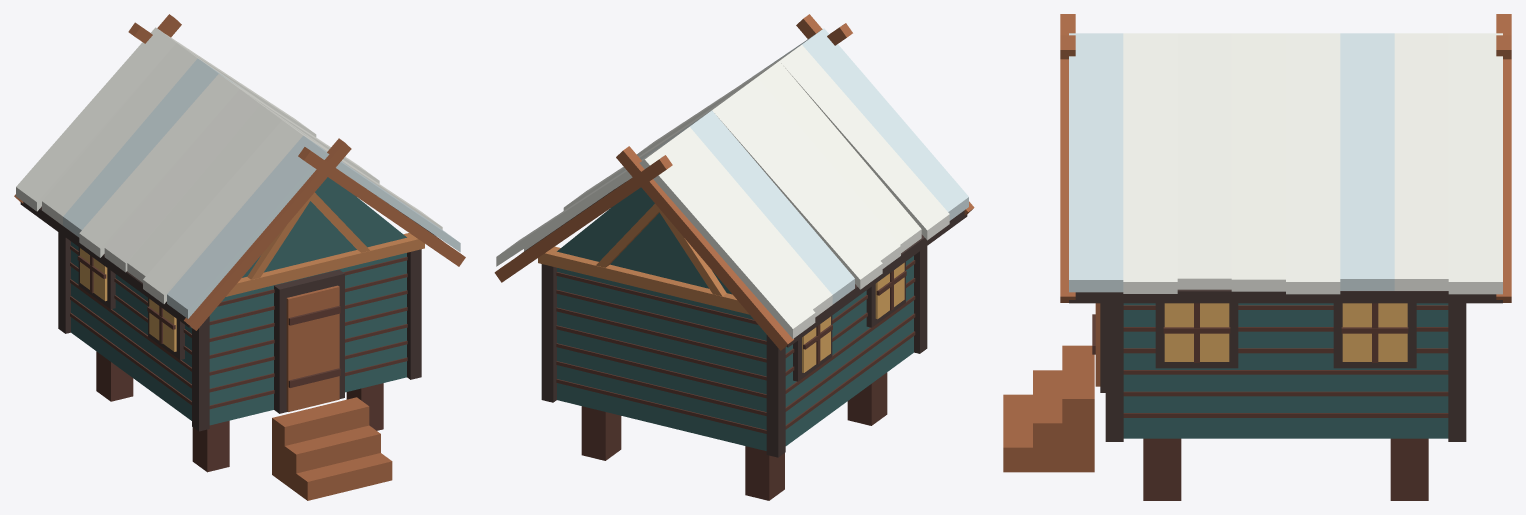
The model's file is RaisedStorehouse.fbx.
3 renders of one model, left to right at view 1: azimuth 30°, elevation 25°; view 2: azimuth 150°, elevation 25°; view 3: azimuth 270°, elevation 25°, orthographic. The views are drawn at different scales.
Visible parts, largest first — view 1: RaisedStorehouse; view 2: RaisedStorehouse; view 3: RaisedStorehouse.
Part boxes in pixels (left/top/right/bottom): RaisedStorehouse: left=14, top=14, right=465, bottom=500; RaisedStorehouse: left=494, top=14, right=974, bottom=500; RaisedStorehouse: left=1003, top=14, right=1511, bottom=500.
Size of the model in its own units: 4.35 by 4.88 by 5.34.
1 material, 1 textured.
